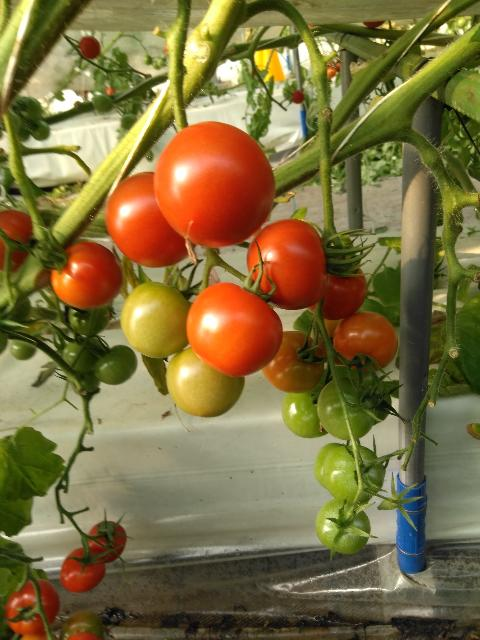l_fully_ripened: (154, 121, 277, 248), (186, 282, 284, 378), (105, 171, 197, 269), (246, 218, 330, 310), (50, 241, 124, 309), (306, 258, 367, 321), (6, 577, 59, 635), (0, 210, 36, 275), (59, 546, 106, 593), (86, 521, 127, 563)
l_green: (316, 377, 376, 442), (323, 444, 385, 506), (315, 498, 372, 554), (281, 384, 328, 438), (92, 345, 138, 386), (63, 336, 107, 372), (358, 380, 392, 426), (313, 442, 344, 489), (67, 305, 112, 336), (60, 610, 104, 640), (10, 339, 36, 360)
l_half_ripened: (166, 345, 245, 418), (120, 281, 192, 359), (261, 330, 324, 394), (333, 312, 399, 371), (310, 316, 349, 366)
